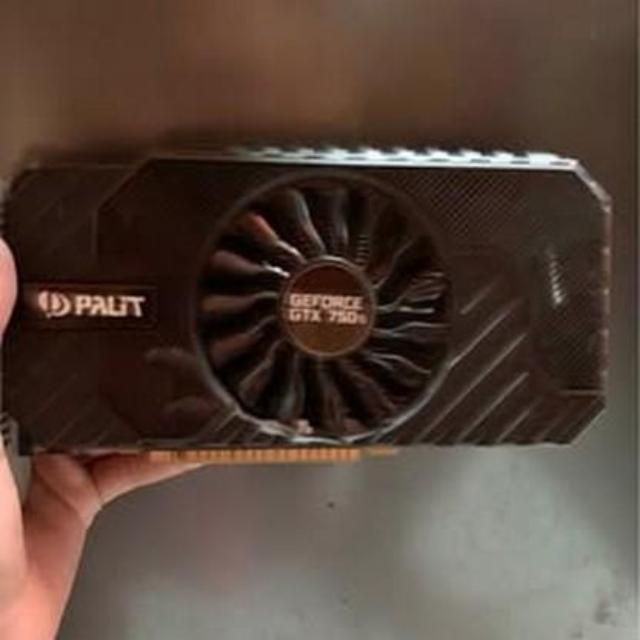GPU: (2, 143, 624, 471)
